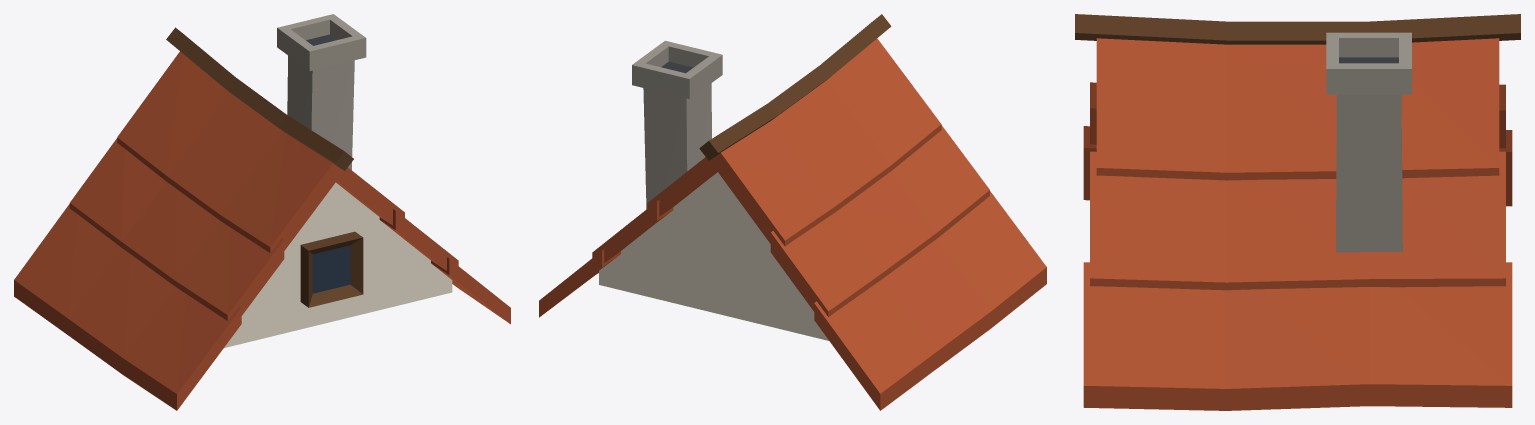
File: house_roof_b.glb
The picture shows the model from 3 angles, left to right: view 1: azimuth 30°, elevation 25°; view 2: azimuth 150°, elevation 25°; view 3: azimuth 270°, elevation 25°; orthographic projection. The views are drawn at different scales.
Parts seen in each view (by area): view 1: house_roof_b; view 2: house_roof_b; view 3: house_roof_b.
Part boxes in pixels (x1,y1,x2,y2): house_roof_b: (14,14,510,410); house_roof_b: (539,14,1046,410); house_roof_b: (1075,14,1520,410).
Bounding box in the file's own units: 0.71 × 0.4916 × 0.624.
